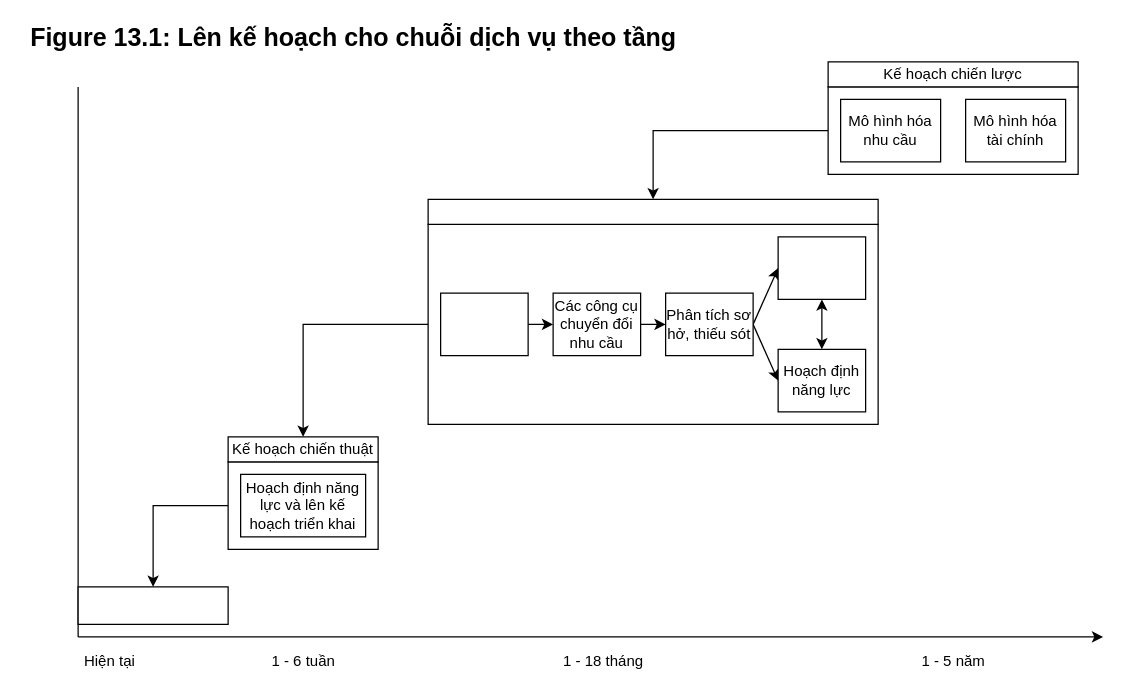
Some shapes in this 1135 by 695 pixel diagram are drawn without their labels. Here are the shapes that lost their labels. From the top down, the centre of each, then its label:
At pixel 652 211: "Kế hoạch hoạt động".
At pixel 821 267: "Chênh lệch ngân sách".
At pixel 483 324: "Quản lý nhu cầu".
At pixel 152 605: "Thực hiện dịch vụ".
